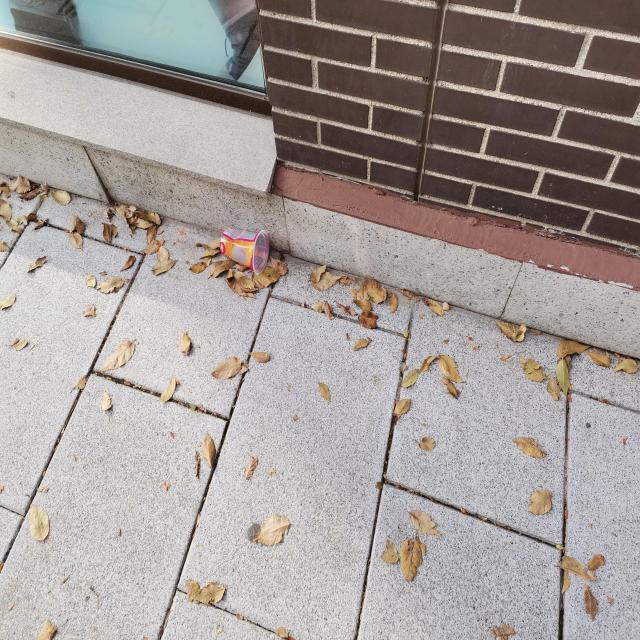litter: (219, 222, 271, 278)
